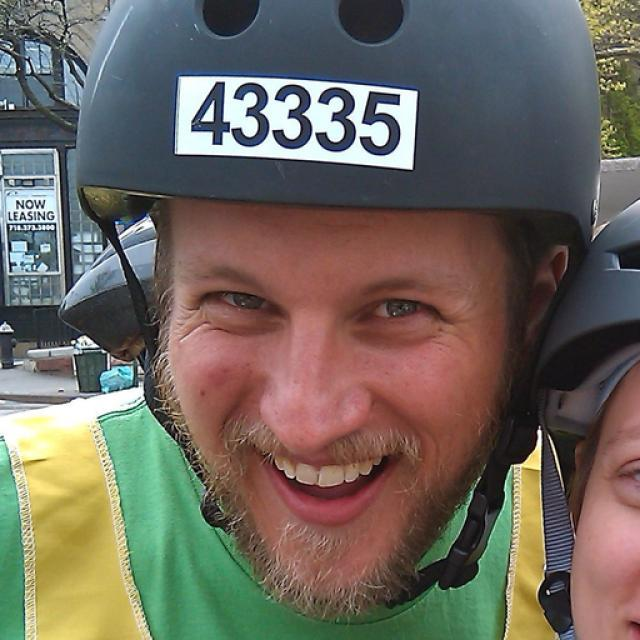happy: (169, 197, 510, 615)
